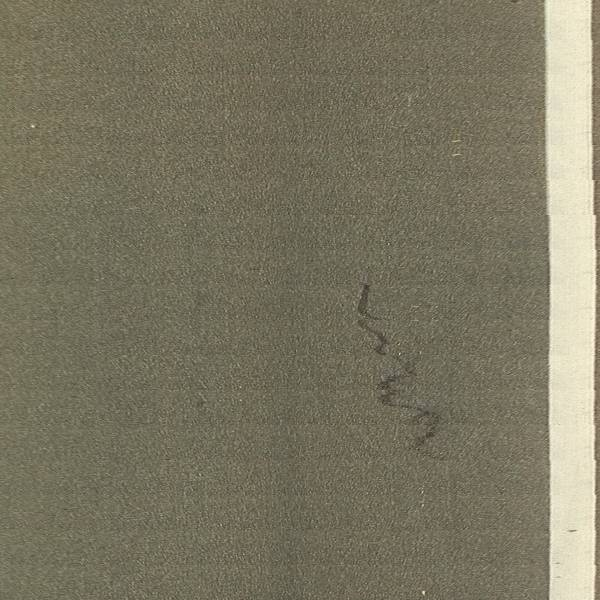road_damage: (349, 274, 445, 458)
